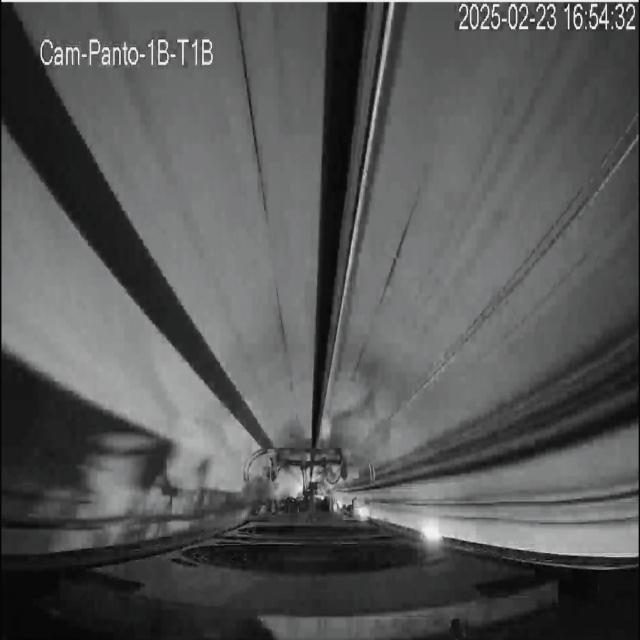Camera Stamp: (33, 27, 221, 72)
Date Stamp: (459, 3, 636, 33)
No - Spark: (264, 378, 362, 513), (420, 513, 446, 547)
